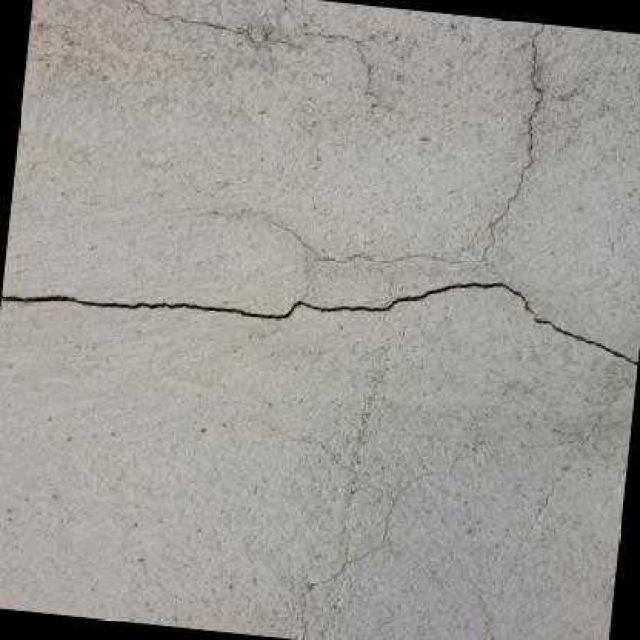D00: (0, 278, 634, 362)
